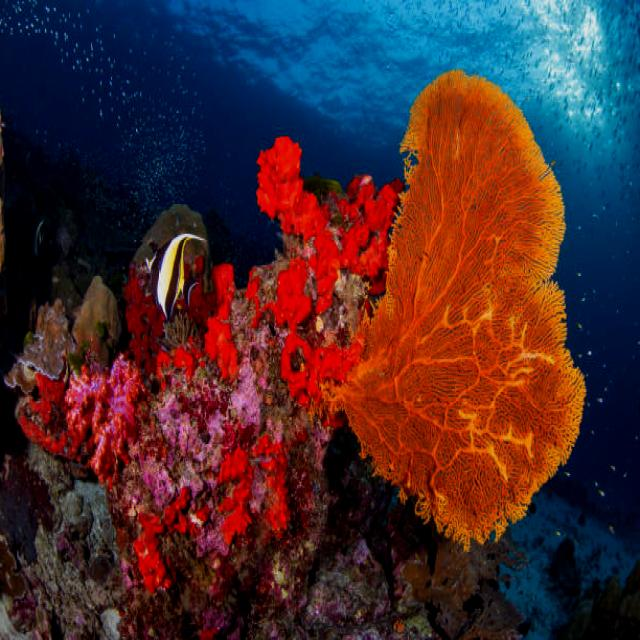Coral: (308, 69, 587, 553)
